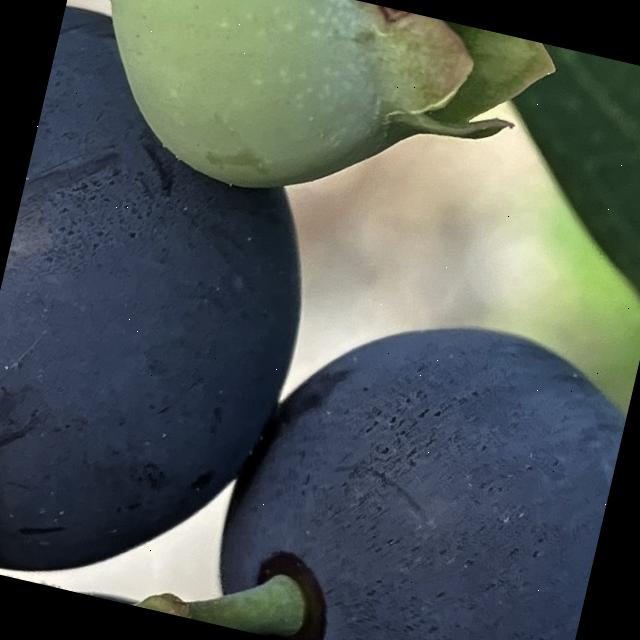Blueberries: (0, 3, 362, 628)
